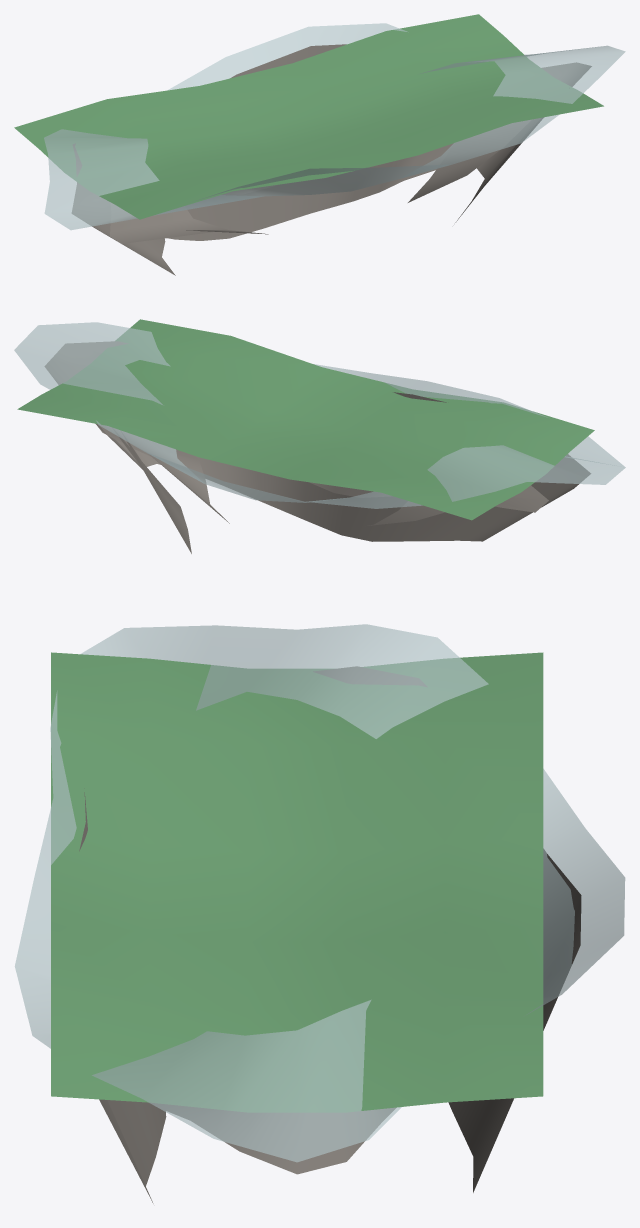
File: island_impostors.gltf
The picture shows the model from 3 angles, top to bottom: view 1: azimuth 30°, elevation 25°; view 2: azimuth 150°, elevation 25°; view 3: azimuth 270°, elevation 25°; orthographic projection. The views are drawn at different scales.
Visible parts, largest first — view 1: Authored terrain relief surface, hazy far rim, distant underside silhouette, far shadow shelf; view 2: Authored terrain relief surface, hazy far rim, distant underside silhouette, far shadow shelf; view 3: Authored terrain relief surface, hazy far rim, distant underside silhouette, far shadow shelf.
Part boxes in pixels (<box>): Authored terrain relief surface: <box>14,14,603,219</box>; hazy far rim: <box>44,23,625,230</box>; distant underside silhouette: <box>72,44,591,275</box>; far shadow shelf: <box>110,120,530,243</box>; Authored terrain relief surface: <box>17,319,594,520</box>; hazy far rim: <box>14,322,625,508</box>; distant underside silhouette: <box>44,341,590,553</box>; far shadow shelf: <box>97,424,548,525</box>; Authored terrain relief surface: <box>51,652,543,1112</box>; hazy far rim: <box>15,624,625,1162</box>; distant underside silhouette: <box>79,666,581,1203</box>; far shadow shelf: <box>147,1102,395,1174</box>.
Size of the model in its own units: 4.02 by 1.04 by 1.86.
